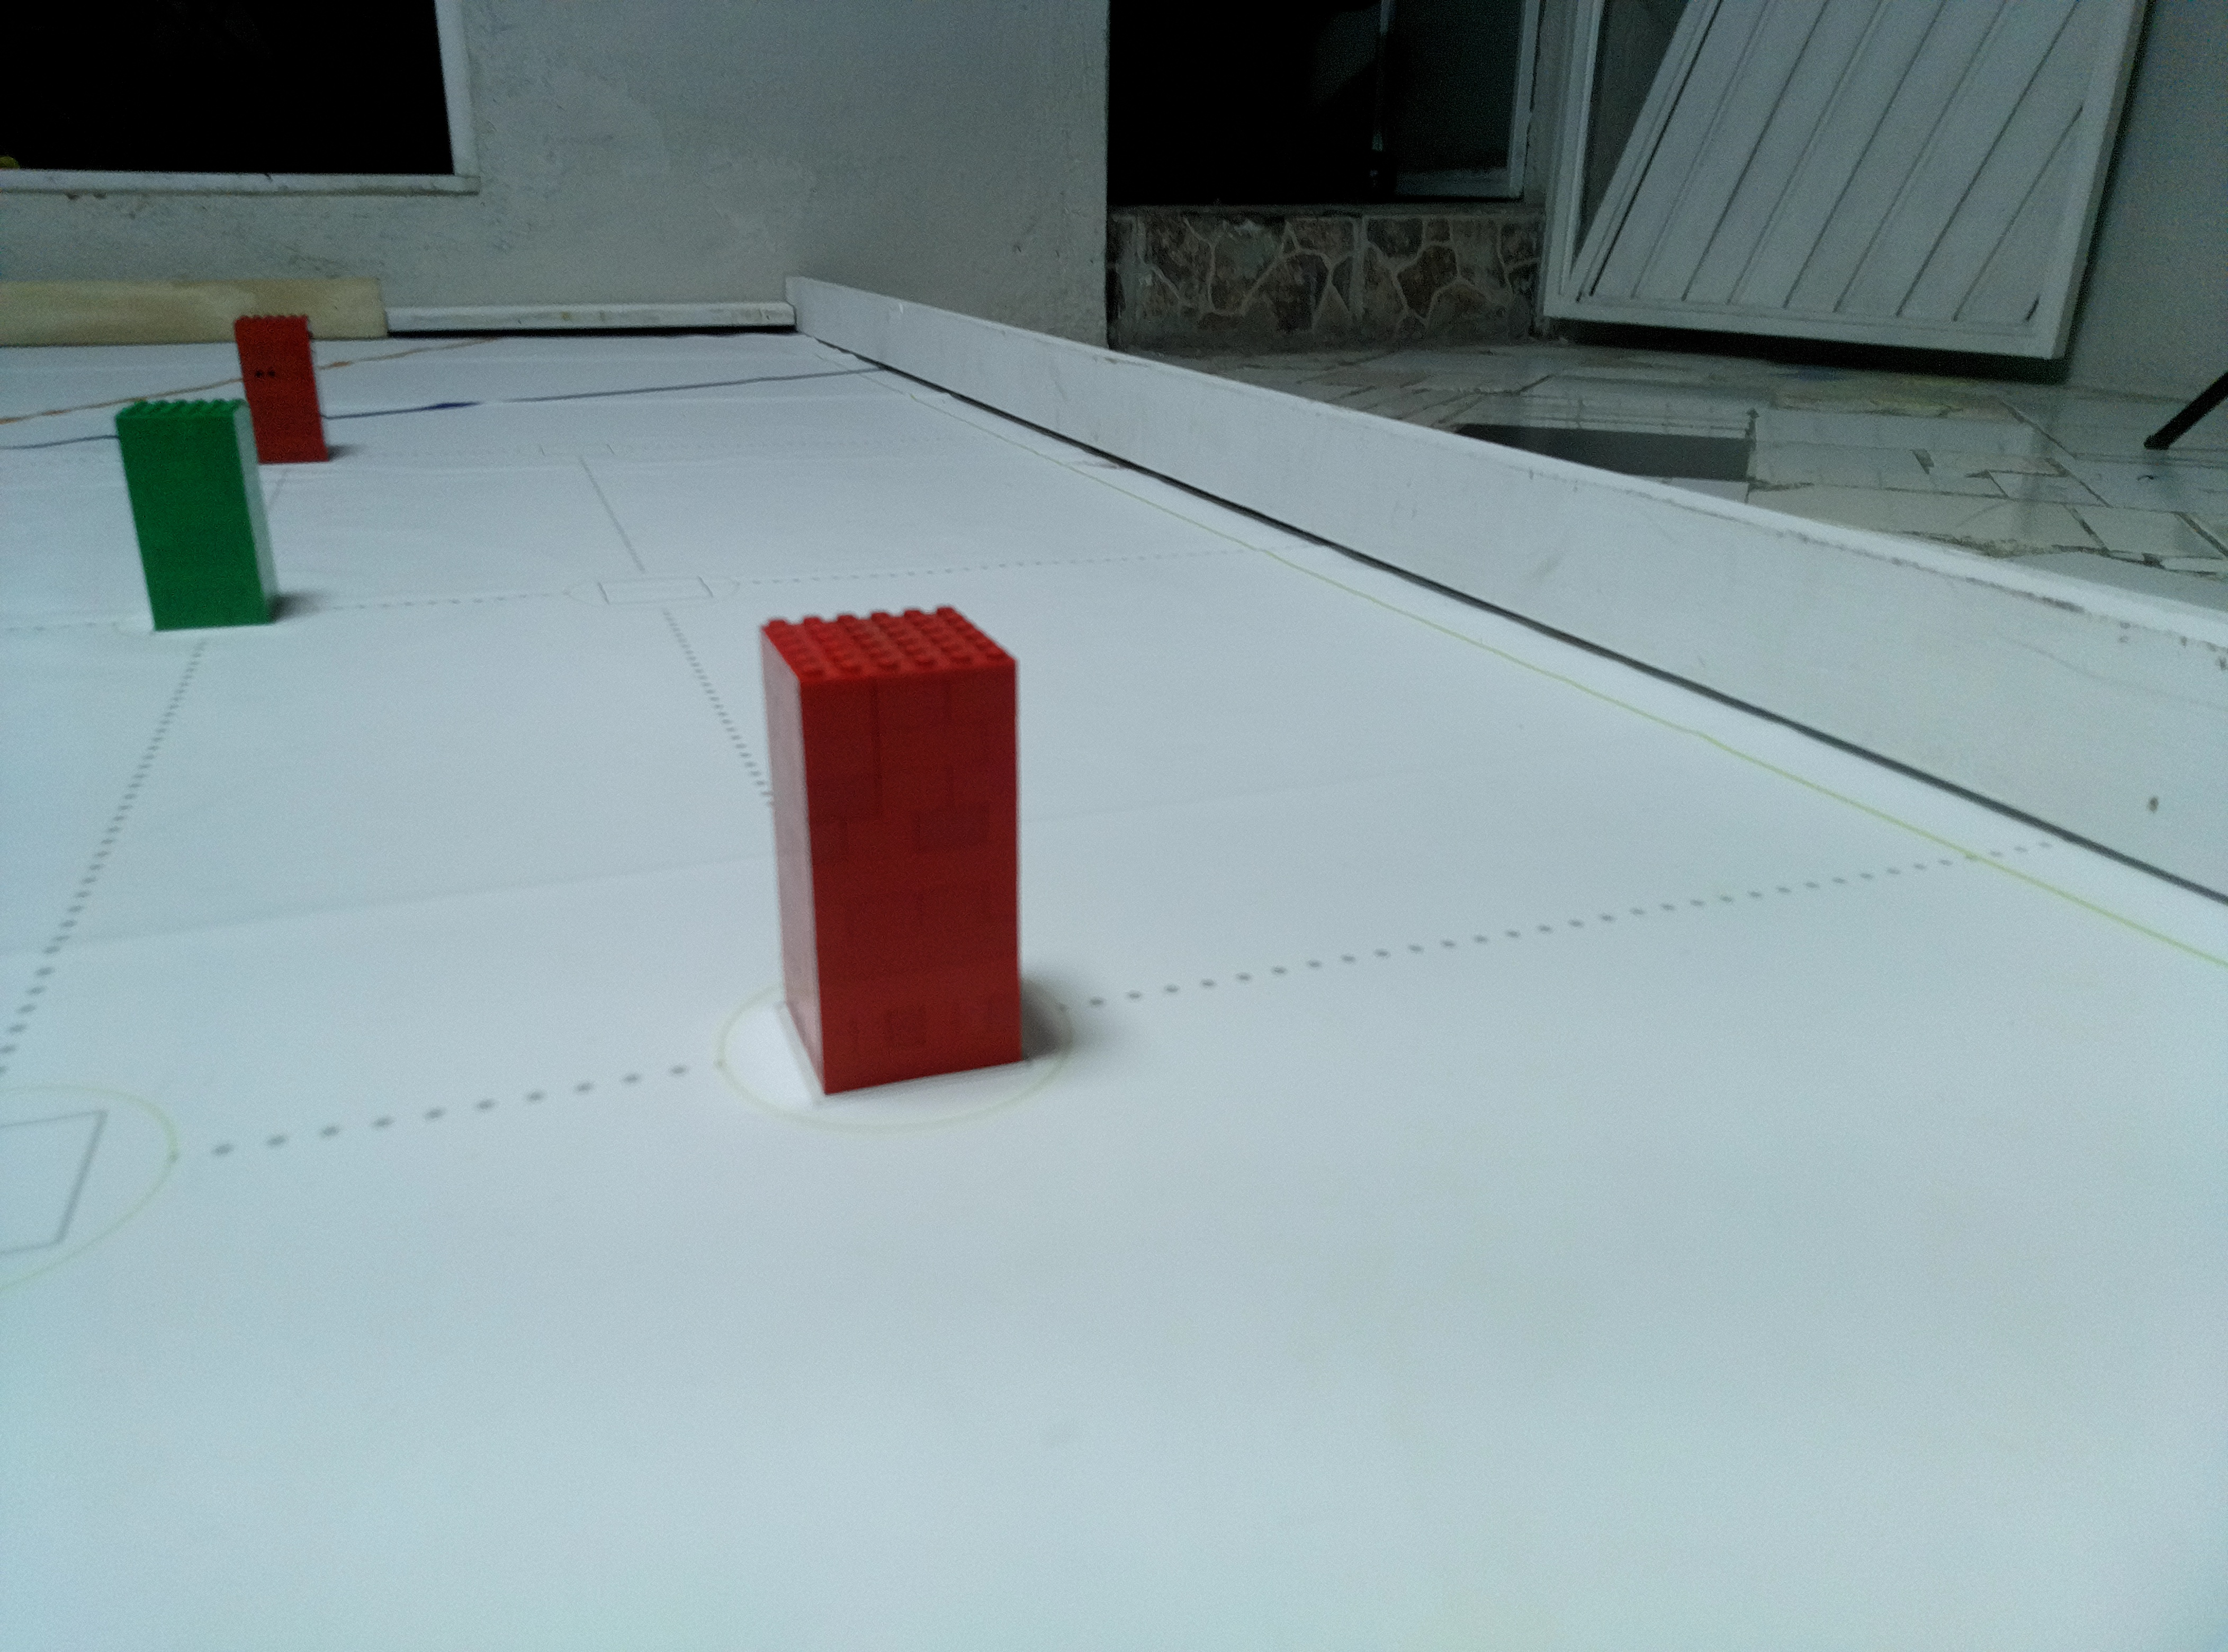greenbox: (111, 397, 286, 633)
redbox: (753, 600, 1029, 1102), (229, 312, 330, 465)
